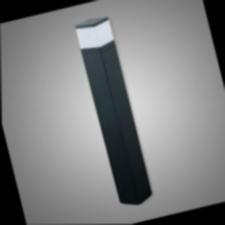Animal: (66, 12, 152, 209)
